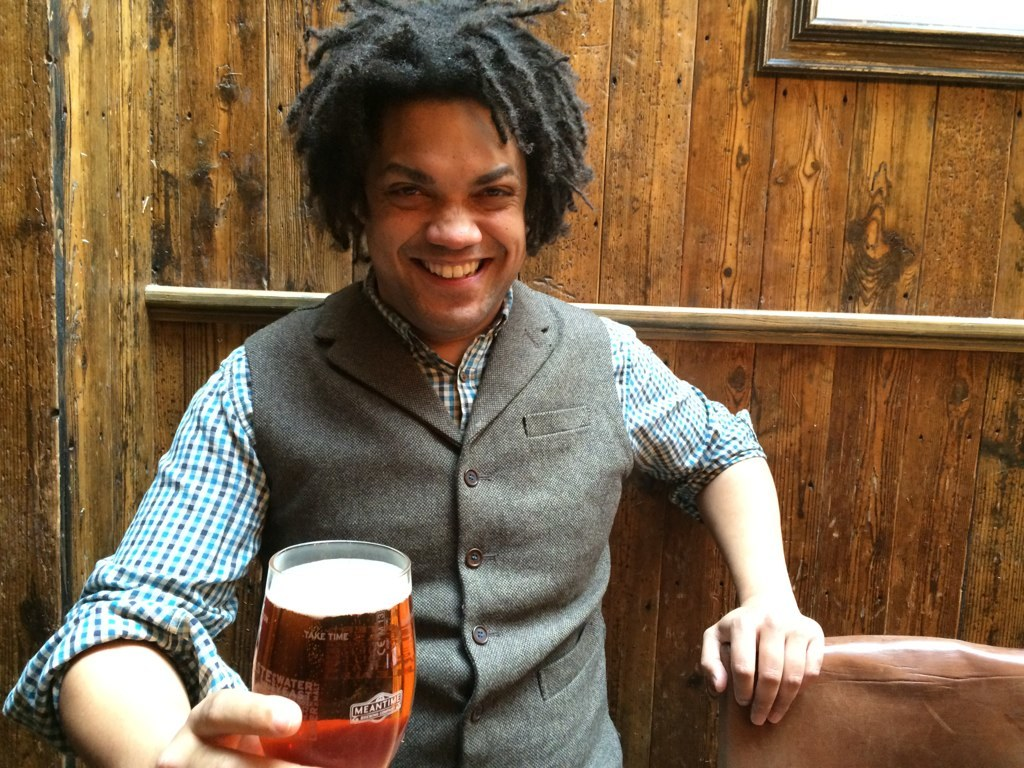Beer: (248, 557, 414, 767)
